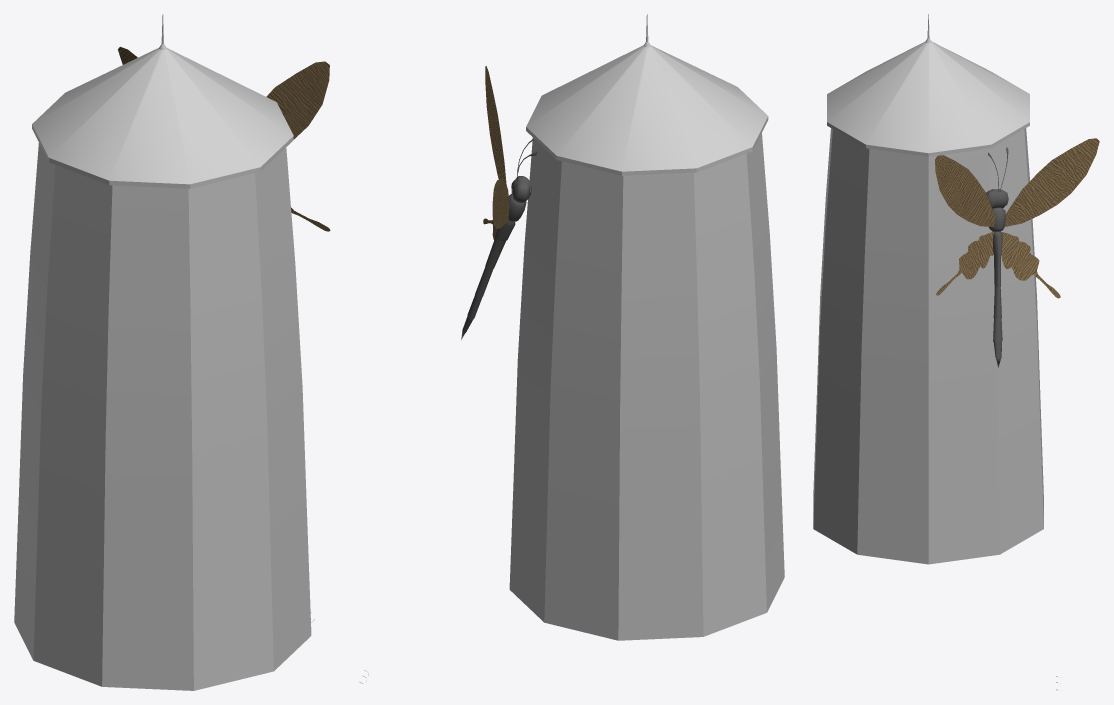
The model's file is Molino.fbx.
3 renders of one model, left to right at view 1: azimuth 30°, elevation 25°; view 2: azimuth 150°, elevation 25°; view 3: azimuth 270°, elevation 25°, orthographic. The views are drawn at different scales.
Parts seen in each view (by area): view 1: Torre, Tejado, alas02; view 2: Torre, Tejado, cuerpo, alas02, alas04; view 3: Torre, Tejado, alas04, alas02, cuerpo, alas03, alas01.
Boxes of the visible parts, left/top/right/bottom form: Torre: left=14, top=143, right=311, bottom=690; Tejado: left=32, top=14, right=293, bottom=188; alas02: left=266, top=61, right=329, bottom=139; Torre: left=509, top=133, right=784, bottom=640; Tejado: left=526, top=14, right=768, bottom=175; cuerpo: left=461, top=194, right=526, bottom=340; alas02: left=485, top=66, right=506, bottom=182; alas04: left=492, top=179, right=509, bottom=228; Torre: left=813, top=128, right=1043, bottom=564; Tejado: left=827, top=14, right=1029, bottom=156; alas04: left=1004, top=138, right=1099, bottom=226; alas02: left=935, top=155, right=995, bottom=226; cuerpo: left=988, top=207, right=1005, bottom=367; alas03: left=1001, top=232, right=1060, bottom=298; alas01: left=936, top=231, right=993, bottom=295.
Size of the model in its own units: 2.96 by 5.69 by 2.51.
